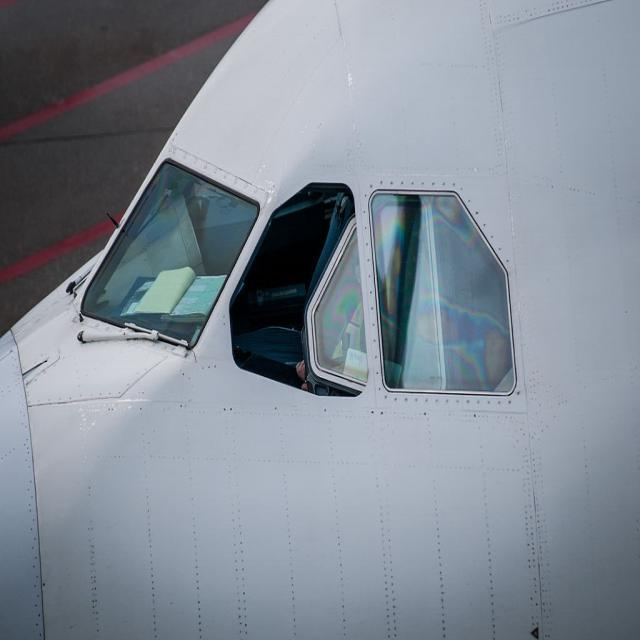crack: (190, 353, 203, 366)
